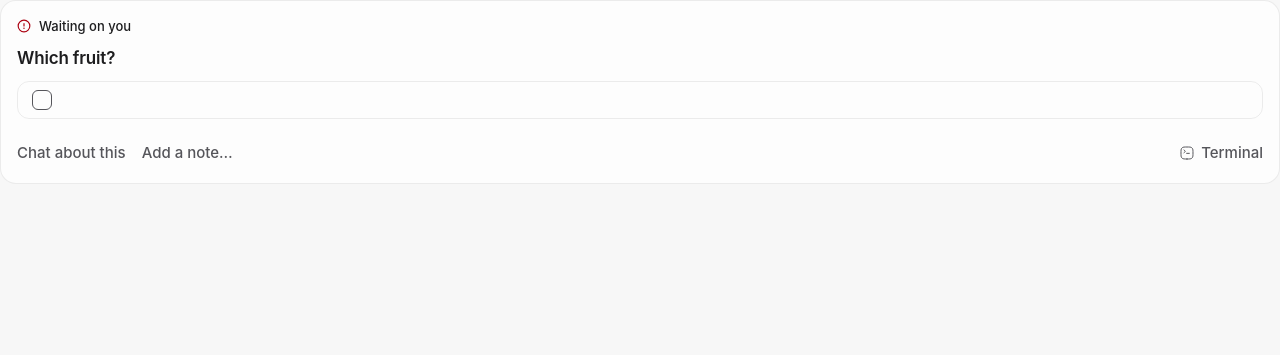
Test: QuestionCard › a note on an answer that accepts text (Tab-amend, Codex notes) › never drops a typed note into a question's escape
Click the button "Add a note…".
click(187, 153)  # box [134,131,241,175]
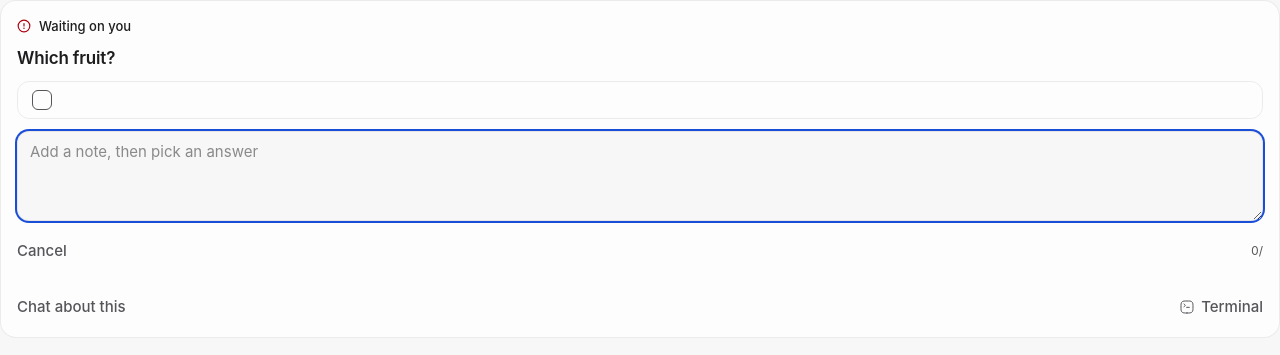
Type "why" into the text box.
click(640, 176); type("why")  # box [17,131,1263,221]
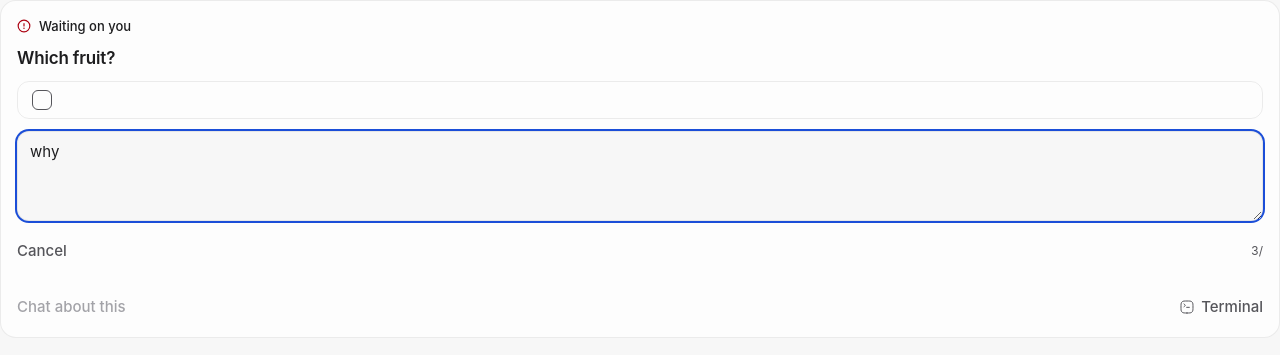
expect the button "Chat about this" is disabled: met, box [9,285,134,329]
